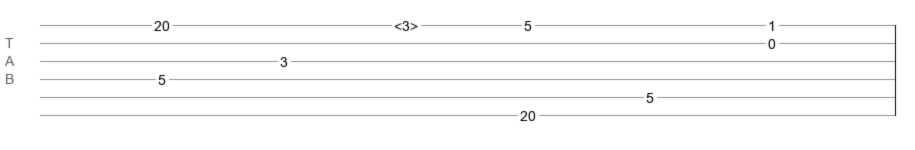0: (768, 36, 776, 46)
1: (768, 18, 776, 28)
20: (154, 18, 170, 28), (520, 108, 536, 118)
3: (280, 54, 288, 64)
5: (158, 72, 166, 82), (524, 18, 532, 28), (646, 90, 654, 100)
harmonic: (394, 18, 418, 28)
